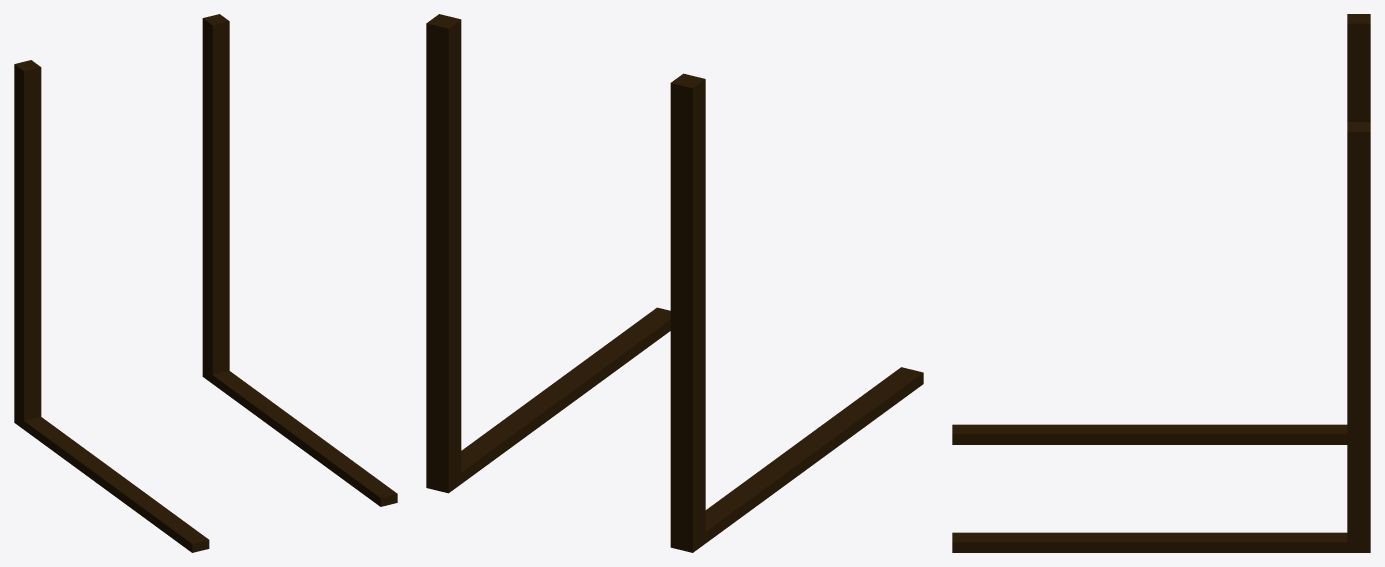
File: Target Stand.obj
3 renders of one model, left to right at view 1: azimuth 30°, elevation 25°; view 2: azimuth 150°, elevation 25°; view 3: azimuth 270°, elevation 25°, orthographic. The views are drawn at different scales.
Visible parts, largest first — view 1: Target Stand; view 2: Target Stand; view 3: Target Stand.
Boxes of the visible parts, x1=… form: Target Stand: x1=14, y1=14, x2=397, y2=552; Target Stand: x1=426, y1=14, x2=923, y2=552; Target Stand: x1=952, y1=14, x2=1370, y2=552.
Bounding box in the file's own units: 24 × 40 × 36.
Materials: 1 (1 with a texture image).
